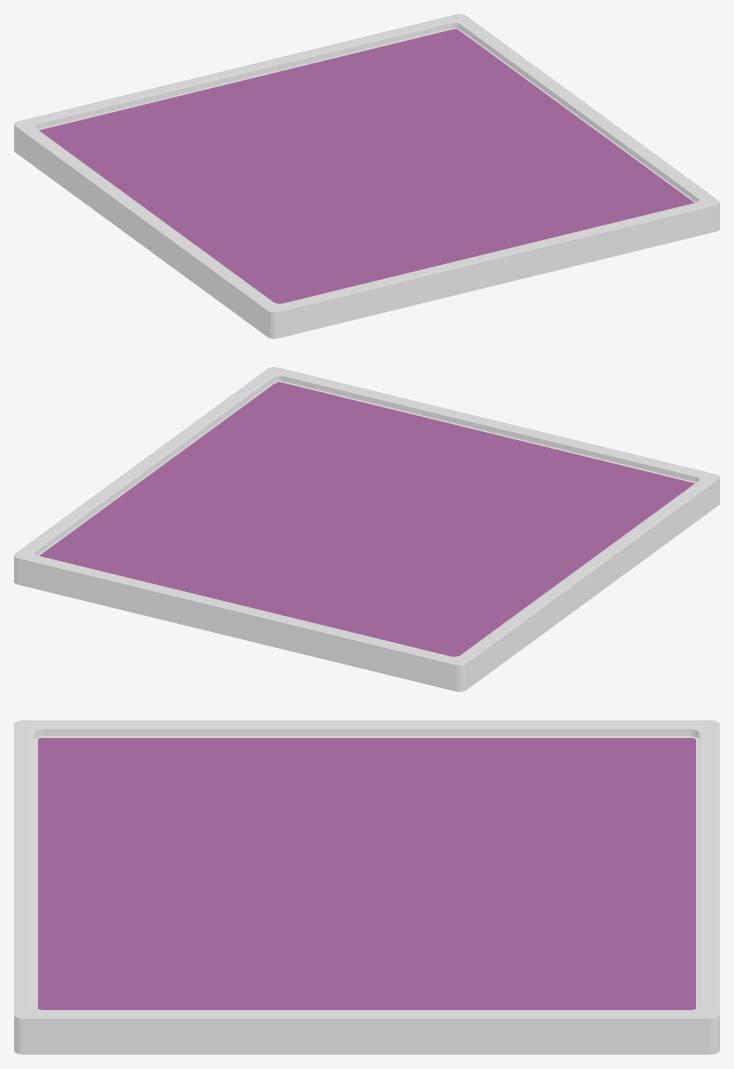
File: button.gltf
The picture shows the model from 3 angles, top to bottom: view 1: azimuth 30°, elevation 25°; view 2: azimuth 150°, elevation 25°; view 3: azimuth 270°, elevation 25°; orthographic projection. The views are drawn at different scales.
Visible parts, largest first — view 1: Cube.002; view 2: Cube.002; view 3: Cube.002.
Boxes of the visible parts, box(x1,y1,x2,y2) form: Cube.002: box(14, 14, 719, 338); Cube.002: box(14, 367, 719, 691); Cube.002: box(14, 720, 719, 1054).
Bounding box in the file's own units: 1.5 × 0.0855 × 1.5.
